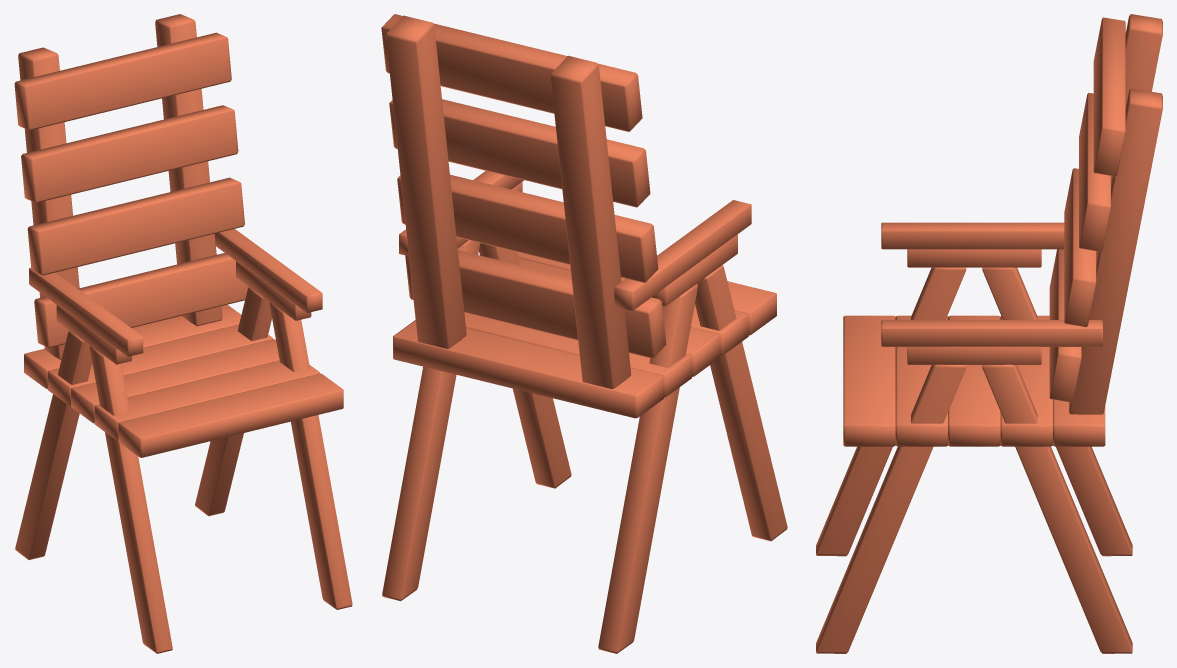
File: MSH_Silla.FBX
3 views of the same model, side by side, from view 1: azimuth 30°, elevation 25°; view 2: azimuth 150°, elevation 25°; view 3: azimuth 270°, elevation 25° (orthographic). The views are drawn at different scales.
Parts seen in each view (by area): view 1: G_Silla; view 2: G_Silla; view 3: G_Silla.
Part boxes in pixels (x1,y1,x2,y2): G_Silla: (14, 14, 352, 653); G_Silla: (381, 14, 787, 653); G_Silla: (816, 14, 1162, 653).
Size of the model in its own units: 26 by 59.47 by 34.41.
